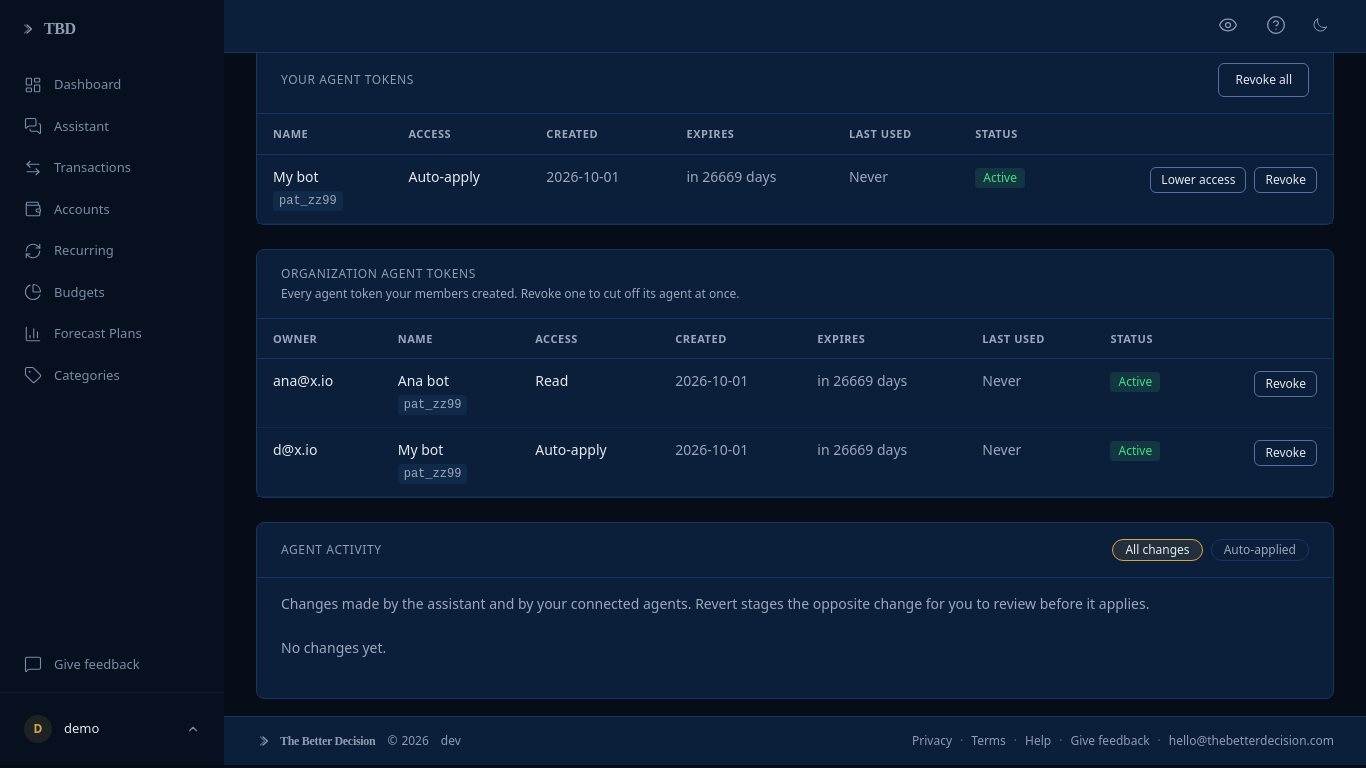
it: org agent tokens › F-619-REVOKE: Revoke asks first, then DELETEs the org route with the id and the row updates
(page scrolled)
Click the button with aria-label "Revoke Ana bot owned by ana@x.io". click: x=1286, y=384
box: [1254, 371, 1317, 397]
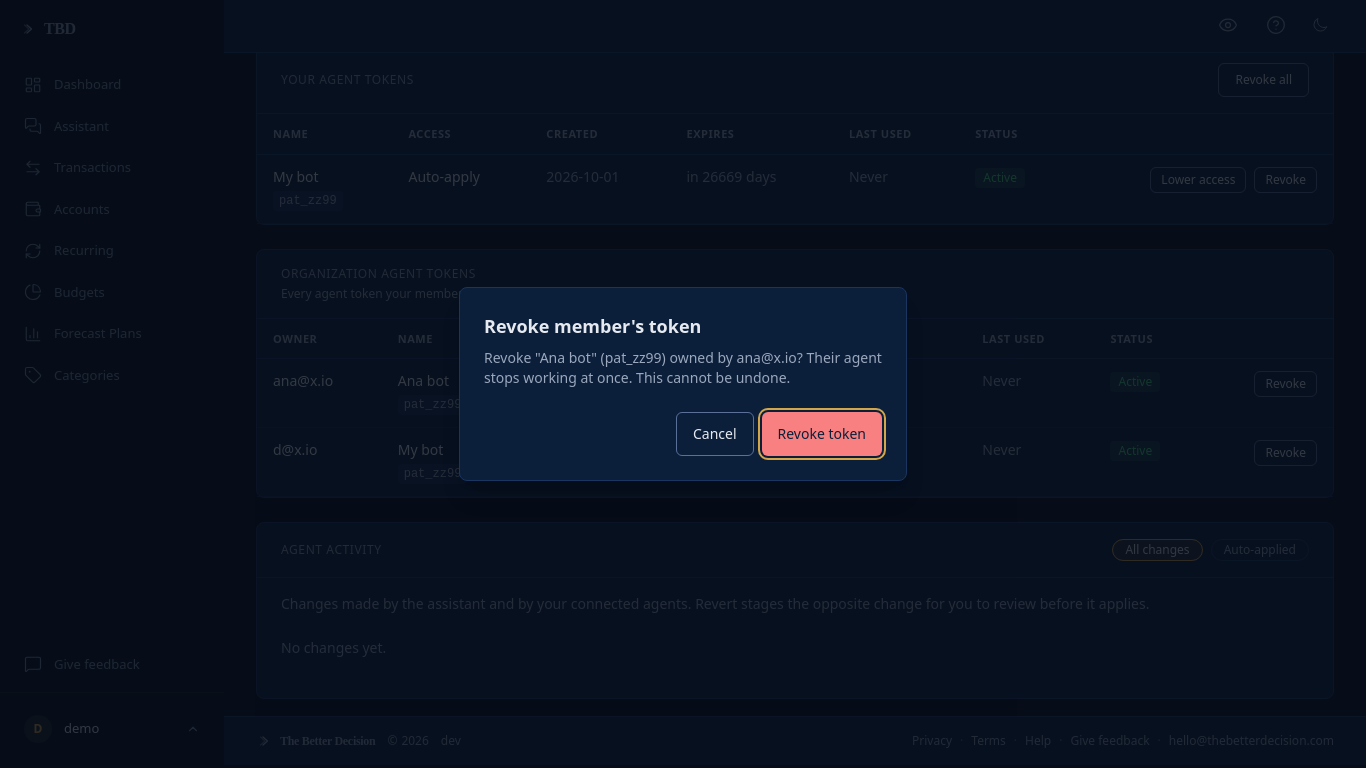
Click the button "Revoke token". click: x=822, y=434
box: [762, 412, 882, 456]
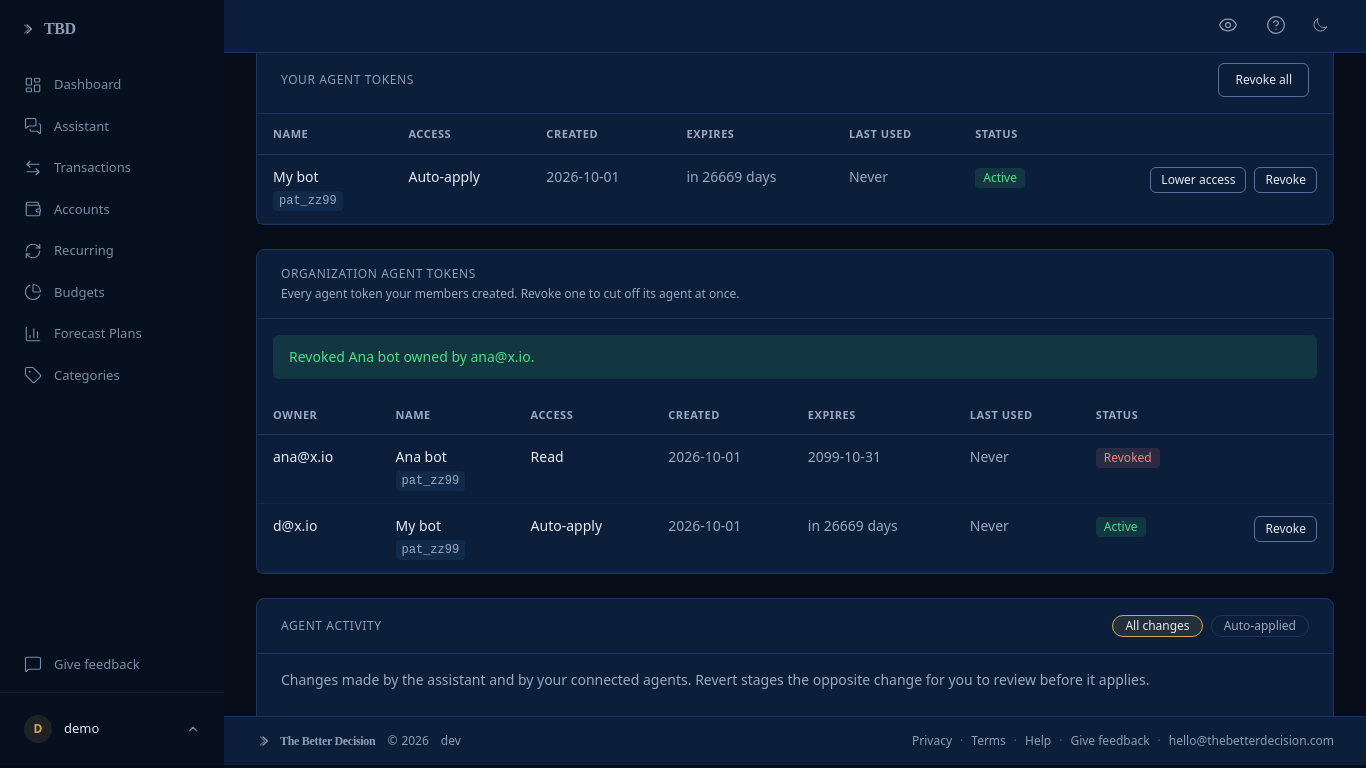
expect the text "Revoked" is shown: met, box [1096, 448, 1160, 468]
